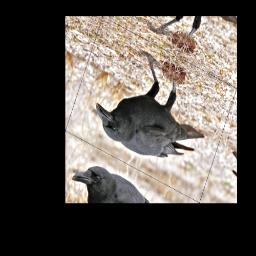Crow: (88, 37, 220, 182)
